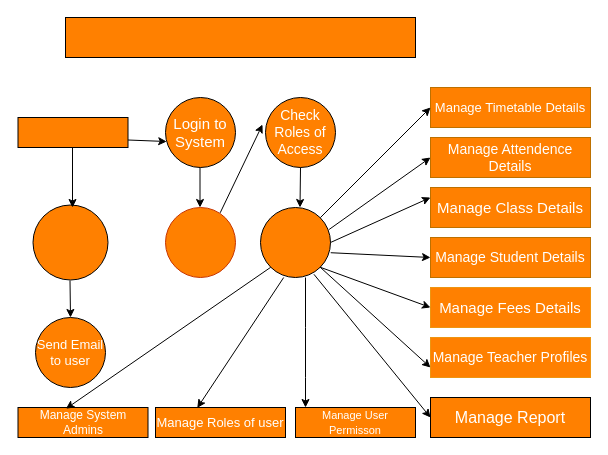
Some shapes in this 608 by 455 pixel diagram are drawn without their labels. The centre of each missing label's shape, as x and y in pixels:
"Admin" goes at pixel 72 132.
"Check Credentials" goes at pixel 200 242.
"Forgot Password" goes at pixel 70 242.
"Manage Modules" goes at pixel 295 242.
"Student Information System" goes at pixel 240 37.
